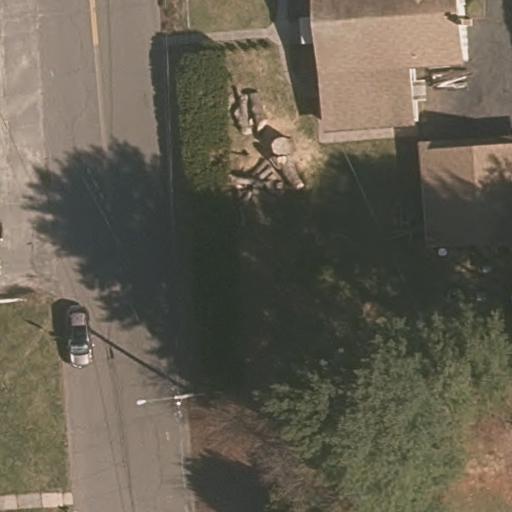DT: (132, 380, 233, 424)
